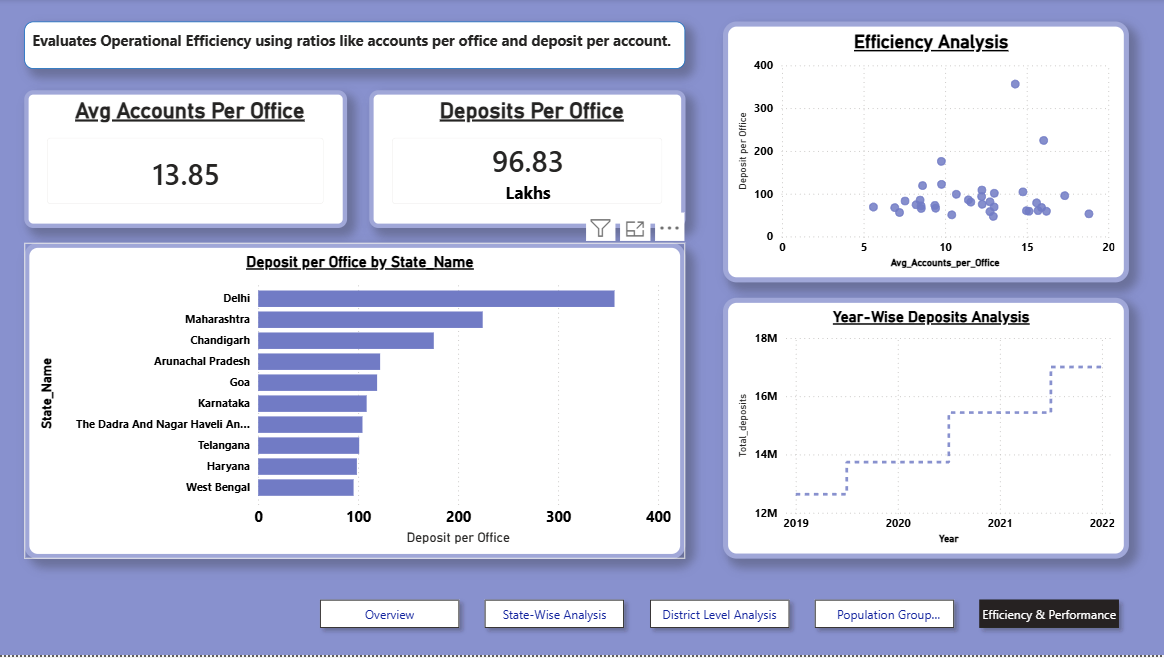

Layout of this report page (visuals, bound fields, positions):
{"tool":"powerbi","page":{"name":"Efficiency & Performance","canvas":[1280,720],"ordinal":4},"visuals":[{"type":"textbox","box":[28.8,24.7,725.9,52.1],"z":0},{"type":"cardVisual","title":"Avg Accounts Per Office","fields":{"Data":["Cleaned Data.Avg_Accounts_per_Office"]},"box":[28.8,100.2,354,150.9],"z":1000},{"type":"cardVisual","title":"Deposits Per Office","fields":{"Data":["Cleaned Data.Deposit per Office"]},"box":[407.5,100.2,347.2,150.9],"z":2000},{"type":"barChart","fields":{"Category":["Cleaned Data.State_Name"],"Y":["Cleaned Data.Deposit per Office"]},"box":[28.8,267.6,725.9,347.2],"z":3000},{"type":"scatterChart","title":"Efficiency Analysis","fields":{"X":["Cleaned Data.Avg_Accounts_per_Office"],"Y":["Cleaned Data.Deposit per Office"],"Category":["Cleaned Data.State_Name"]},"box":[795.9,24.7,446,286.8],"z":4000},{"type":"lineChart","title":"Year-Wise Deposits Analysis","fields":{"Category":["Cleaned Data.Year"],"Y":["Cleaned Data.Total_deposits"]},"box":[795.9,328,446,286.8],"z":5000},{"type":"pageNavigator","box":[344.4,650.4,897.4,49.4],"z":5001}]}

Visuals, with their boxes in screenshot pixels (x1, y1, x2, y2), scaled from the page's 1280x720 canvas onto the 1164x658 screenshot:
textbox: detection(26, 23, 686, 70)
"Avg Accounts Per Office" cardVisual: detection(26, 92, 348, 229)
"Deposits Per Office" cardVisual: detection(371, 92, 686, 229)
barChart - Cleaned Data.State_Name x Cleaned Data.Deposit per Office: detection(26, 245, 686, 562)
"Efficiency Analysis" scatterChart: detection(724, 23, 1129, 285)
"Year-Wise Deposits Analysis" lineChart: detection(724, 300, 1129, 562)
pageNavigator: detection(313, 594, 1129, 640)
